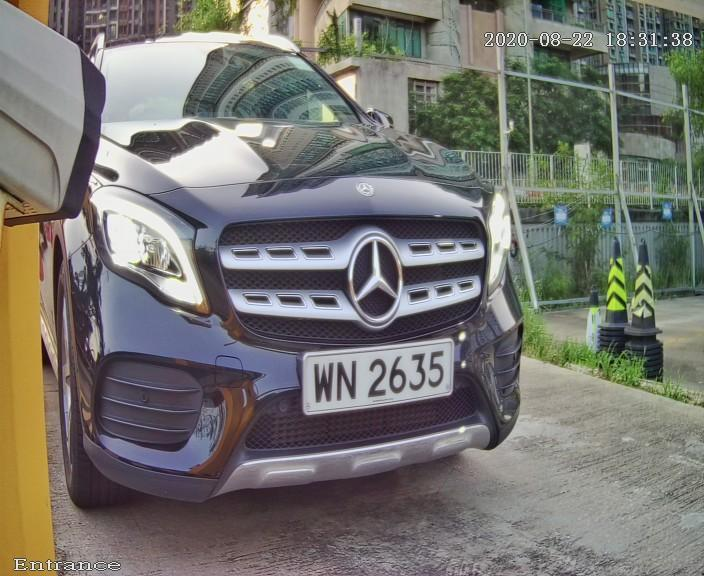License Plate: (276, 313, 472, 438)
